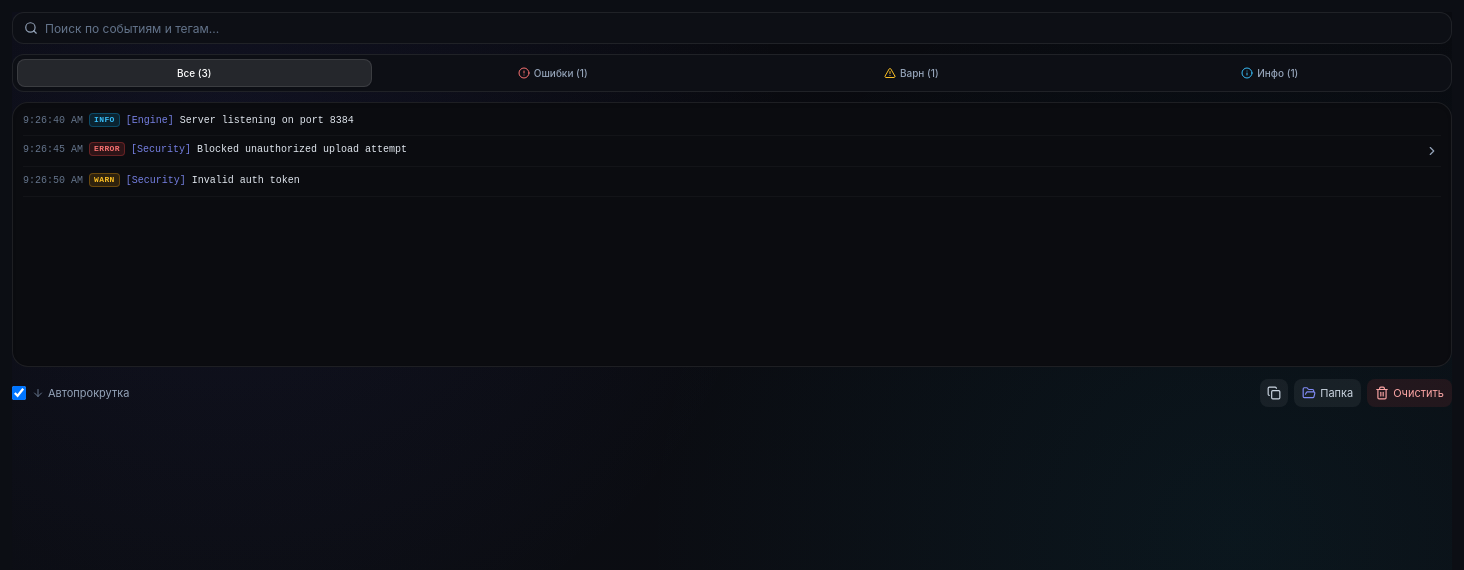
it: LogsSection › handles clearing logs
Check: the text "Server listening on port 8384" is shown, box [180,115,354,126]
Step 1. Click the button "Очистить" → click(1410, 393), box [1367,379,1452,407]
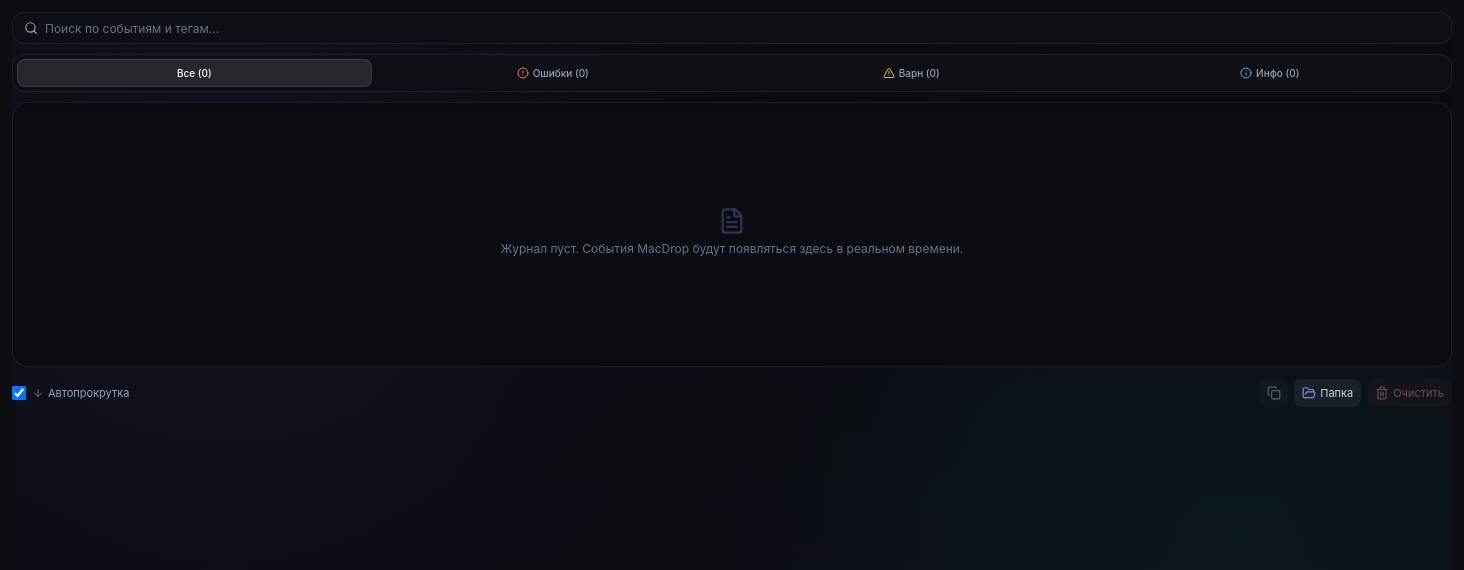
Check: the text "Журнал пуст" is shown, box [501,240,963,256]
